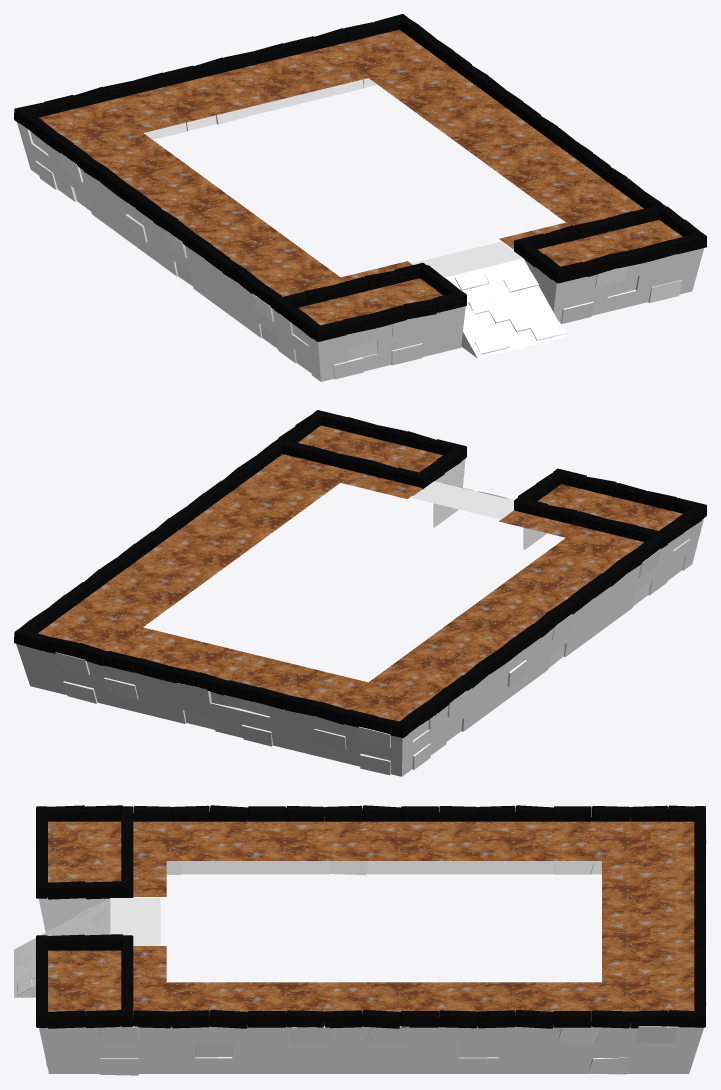
Rendered from House_Base.fbx.
The picture shows the model from 3 angles, top to bottom: view 1: azimuth 30°, elevation 25°; view 2: azimuth 150°, elevation 25°; view 3: azimuth 270°, elevation 25°; orthographic projection. The views are drawn at different scales.
Visible parts, largest first — view 1: House_Base_LOD0; view 2: House_Base_LOD0; view 3: House_Base_LOD0.
Part boxes in pixels (x1,y1,x2,y2): House_Base_LOD0: (14, 14, 706, 381); House_Base_LOD0: (14, 410, 706, 776); House_Base_LOD0: (14, 805, 706, 1075).
Size of what is drawn, in the model's own units: 876 by 128 by 1220.
